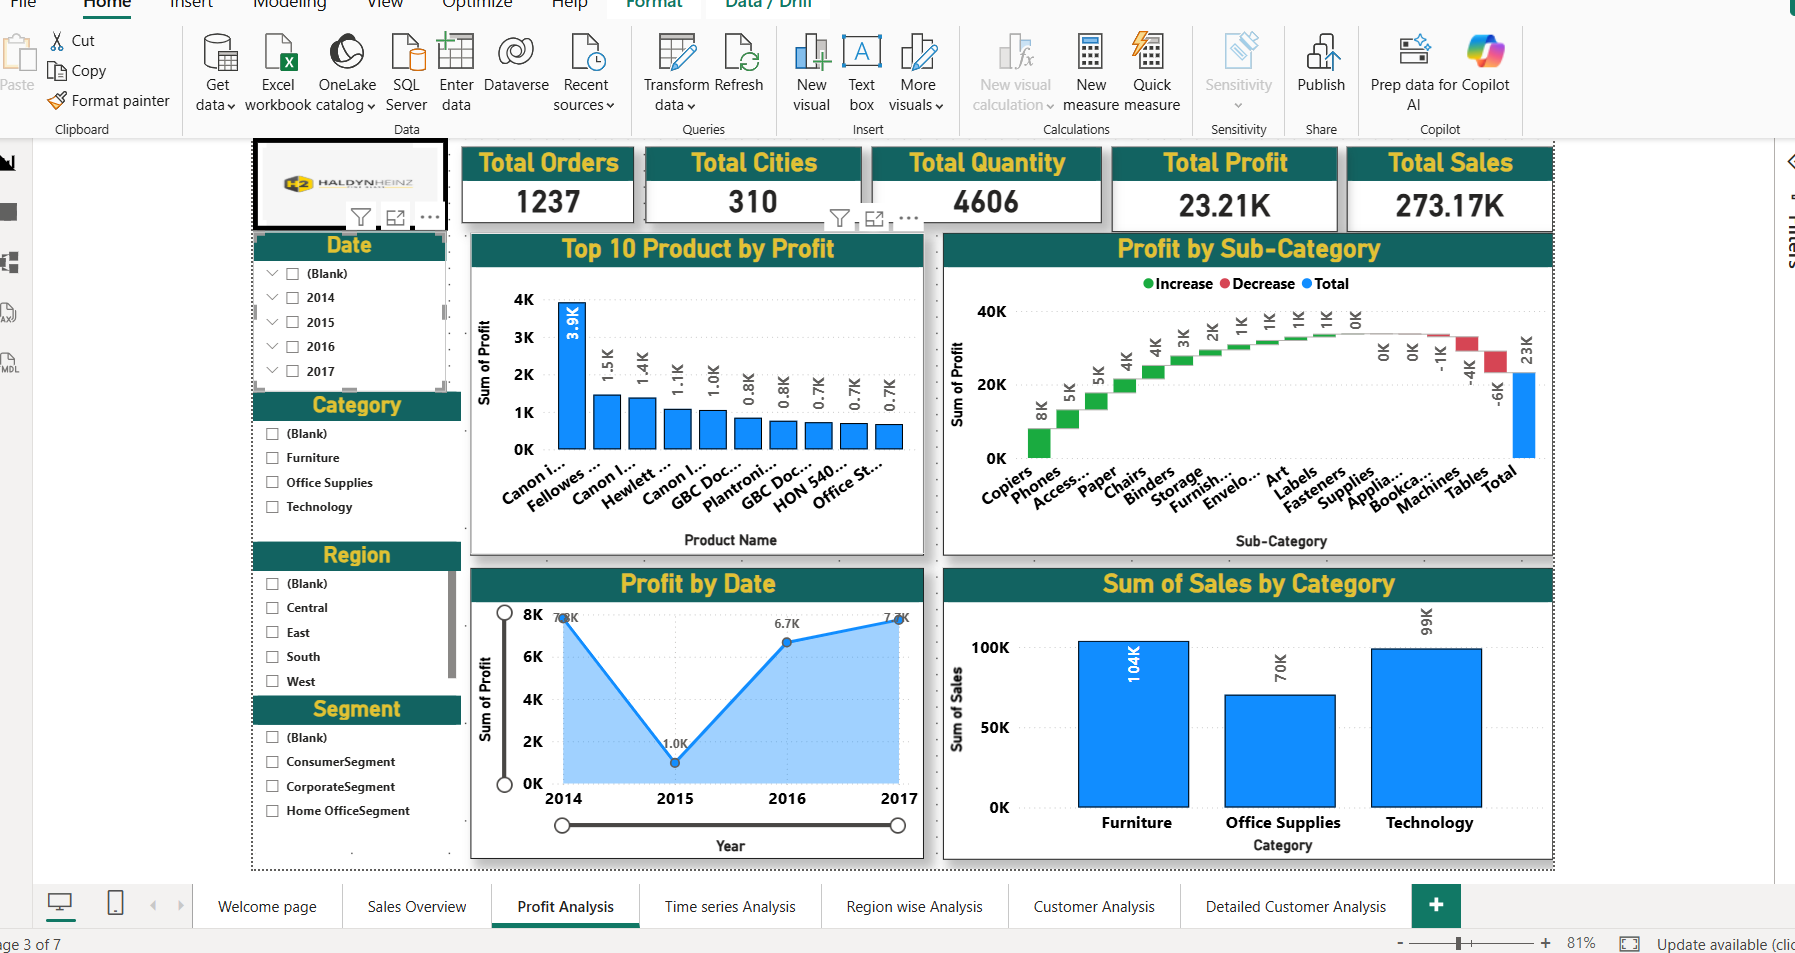

Layout of this report page (visuals, bound fields, positions):
{"tool":"powerbi","page":{"name":"Profit Analysis","canvas":[1280,720],"ordinal":2},"visuals":[{"type":"image","box":[8.6,0,153.8,92.3],"z":0},{"type":"card","title":"Total Sales","fields":{"Values":["Sum(Orders.Sales)"]},"box":[1076.9,8.6,203.1,83.7],"z":1000},{"type":"card","title":"Total Profit","fields":{"Values":["Sum(Orders.Profit)"]},"box":[845,8.8,222.5,83.8],"z":2000},{"type":"card","title":"Total Quantity","fields":{"Values":["Sum(Orders.Quantity)"]},"box":[608.8,8.8,226.2,75],"z":3000},{"type":"card","title":"Total Cities","fields":{"Values":["Count(Orders.City)"]},"box":[386.2,8.8,212.5,75],"z":4000},{"type":"card","title":"Total Orders","fields":{"Values":["Count(Orders.Order ID)"]},"box":[205.5,8.6,169.8,75.1],"z":5000},{"type":"slicer","title":"Date","fields":{"Values":["Orders.Order Date.Variation.Date Hierarchy.Year","Orders.Order Date.Variation.Date Hierarchy.Quarter","Orders.Order Date.Variation.Date Hierarchy.Month","Orders.Order Date.Variation.Date Hierarchy.Day"]},"box":[0,92.5,190,157.5],"z":6000},{"type":"slicer","title":"Category","fields":{"Values":["Orders.Category"]},"box":[0,250,205,147.5],"z":7000},{"type":"slicer","title":"Segment","fields":{"Values":["Orders.Segment"]},"box":[0,548.8,205,151.2],"z":8000},{"type":"slicer","title":"Region","fields":{"Values":["Orders.Region"]},"box":[0,397.5,205,151.2],"z":9000},{"type":"columnChart","title":"Top 10 Product by Profit","fields":{"Category":["Orders.Product Name"],"Y":["Sum(Orders.Profit)"]},"box":[214.3,93.2,446.6,317.2],"z":10000},{"type":"waterfallChart","title":"Profit by Sub-Category","fields":{"Category":["Orders.Sub-Category"],"Y":["Sum(Orders.Profit)"]},"box":[679,93.2,601,317.2],"z":11000},{"type":"areaChart","title":" Profit by Date","fields":{"Category":["Orders.Order Date.Variation.Date Hierarchy.Year","Orders.Order Date.Variation.Date Hierarchy.Quarter","Orders.Order Date.Variation.Date Hierarchy.Month","Orders.Order Date.Variation.Date Hierarchy.Day"],"Y":["Sum(Orders.Profit)"]},"box":[214.3,423,446.6,286.6],"z":12000},{"type":"columnChart","fields":{"Category":["Orders.Category","Orders.Sub-Category","Orders.Product Name"],"Y":["Sum(Orders.Sales)"]},"box":[679,423,601,287],"z":13000},{"type":"image","box":[0,0,192,91.1],"z":14000}]}

Visuals, with their boxes on the page's 1280x720 design canvas (x1, y1, x2, y2). These are canvas units, not pixel positions in the 1795x953 screenshot, which may show the page scaled, cropped or inside an application window:
image: <box>9,0,162,92</box>
"Total Sales" card: <box>1077,9,1280,92</box>
"Total Profit" card: <box>845,9,1068,93</box>
"Total Quantity" card: <box>609,9,835,84</box>
"Total Cities" card: <box>386,9,599,84</box>
"Total Orders" card: <box>206,9,375,84</box>
"Date" slicer: <box>0,92,190,250</box>
"Category" slicer: <box>0,250,205,398</box>
"Segment" slicer: <box>0,549,205,700</box>
"Region" slicer: <box>0,398,205,549</box>
"Top 10 Product by Profit" columnChart: <box>214,93,661,410</box>
"Profit by Sub-Category" waterfallChart: <box>679,93,1280,410</box>
" Profit by Date" areaChart: <box>214,423,661,710</box>
columnChart - Orders.Category x Orders.Sub-Category: <box>679,423,1280,710</box>
image: <box>0,0,192,91</box>
